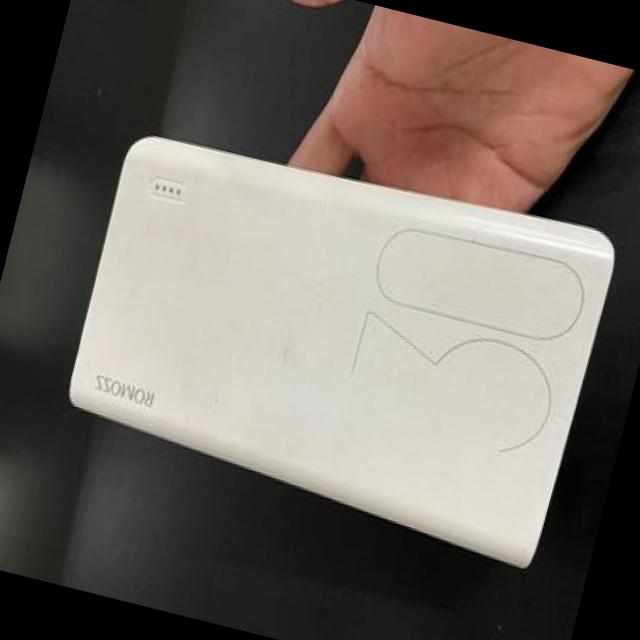portable-charger: (31, 84, 639, 583)
